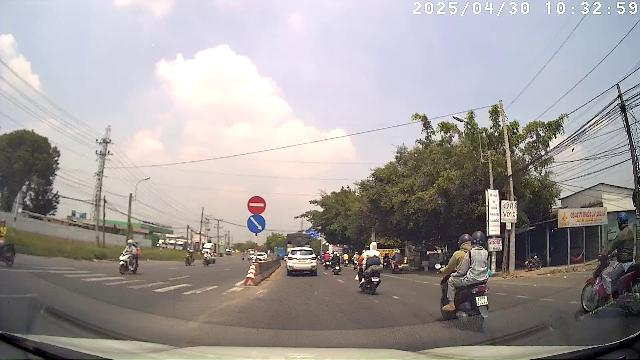102-cam-di-nguoc-chieu: (248, 195, 266, 214)
302a-huong-phai-di-vong-chuong-ngai-vat-1: (248, 215, 266, 233)
